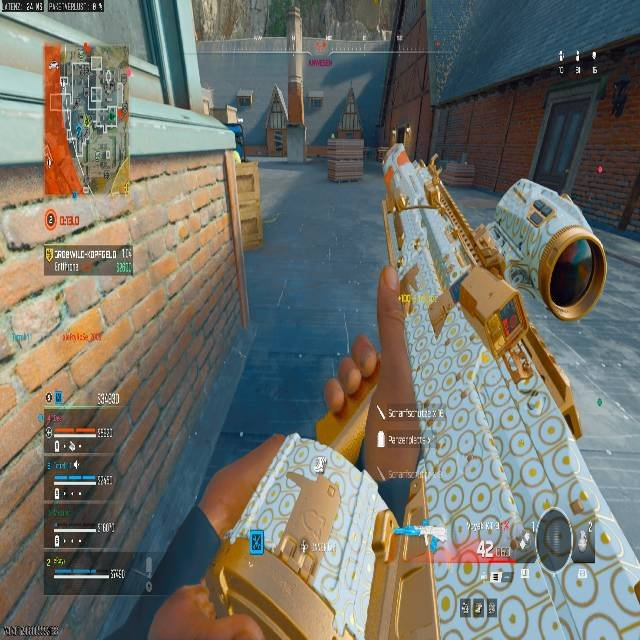head: (321, 334, 379, 417)
player: (182, 336, 395, 638)
